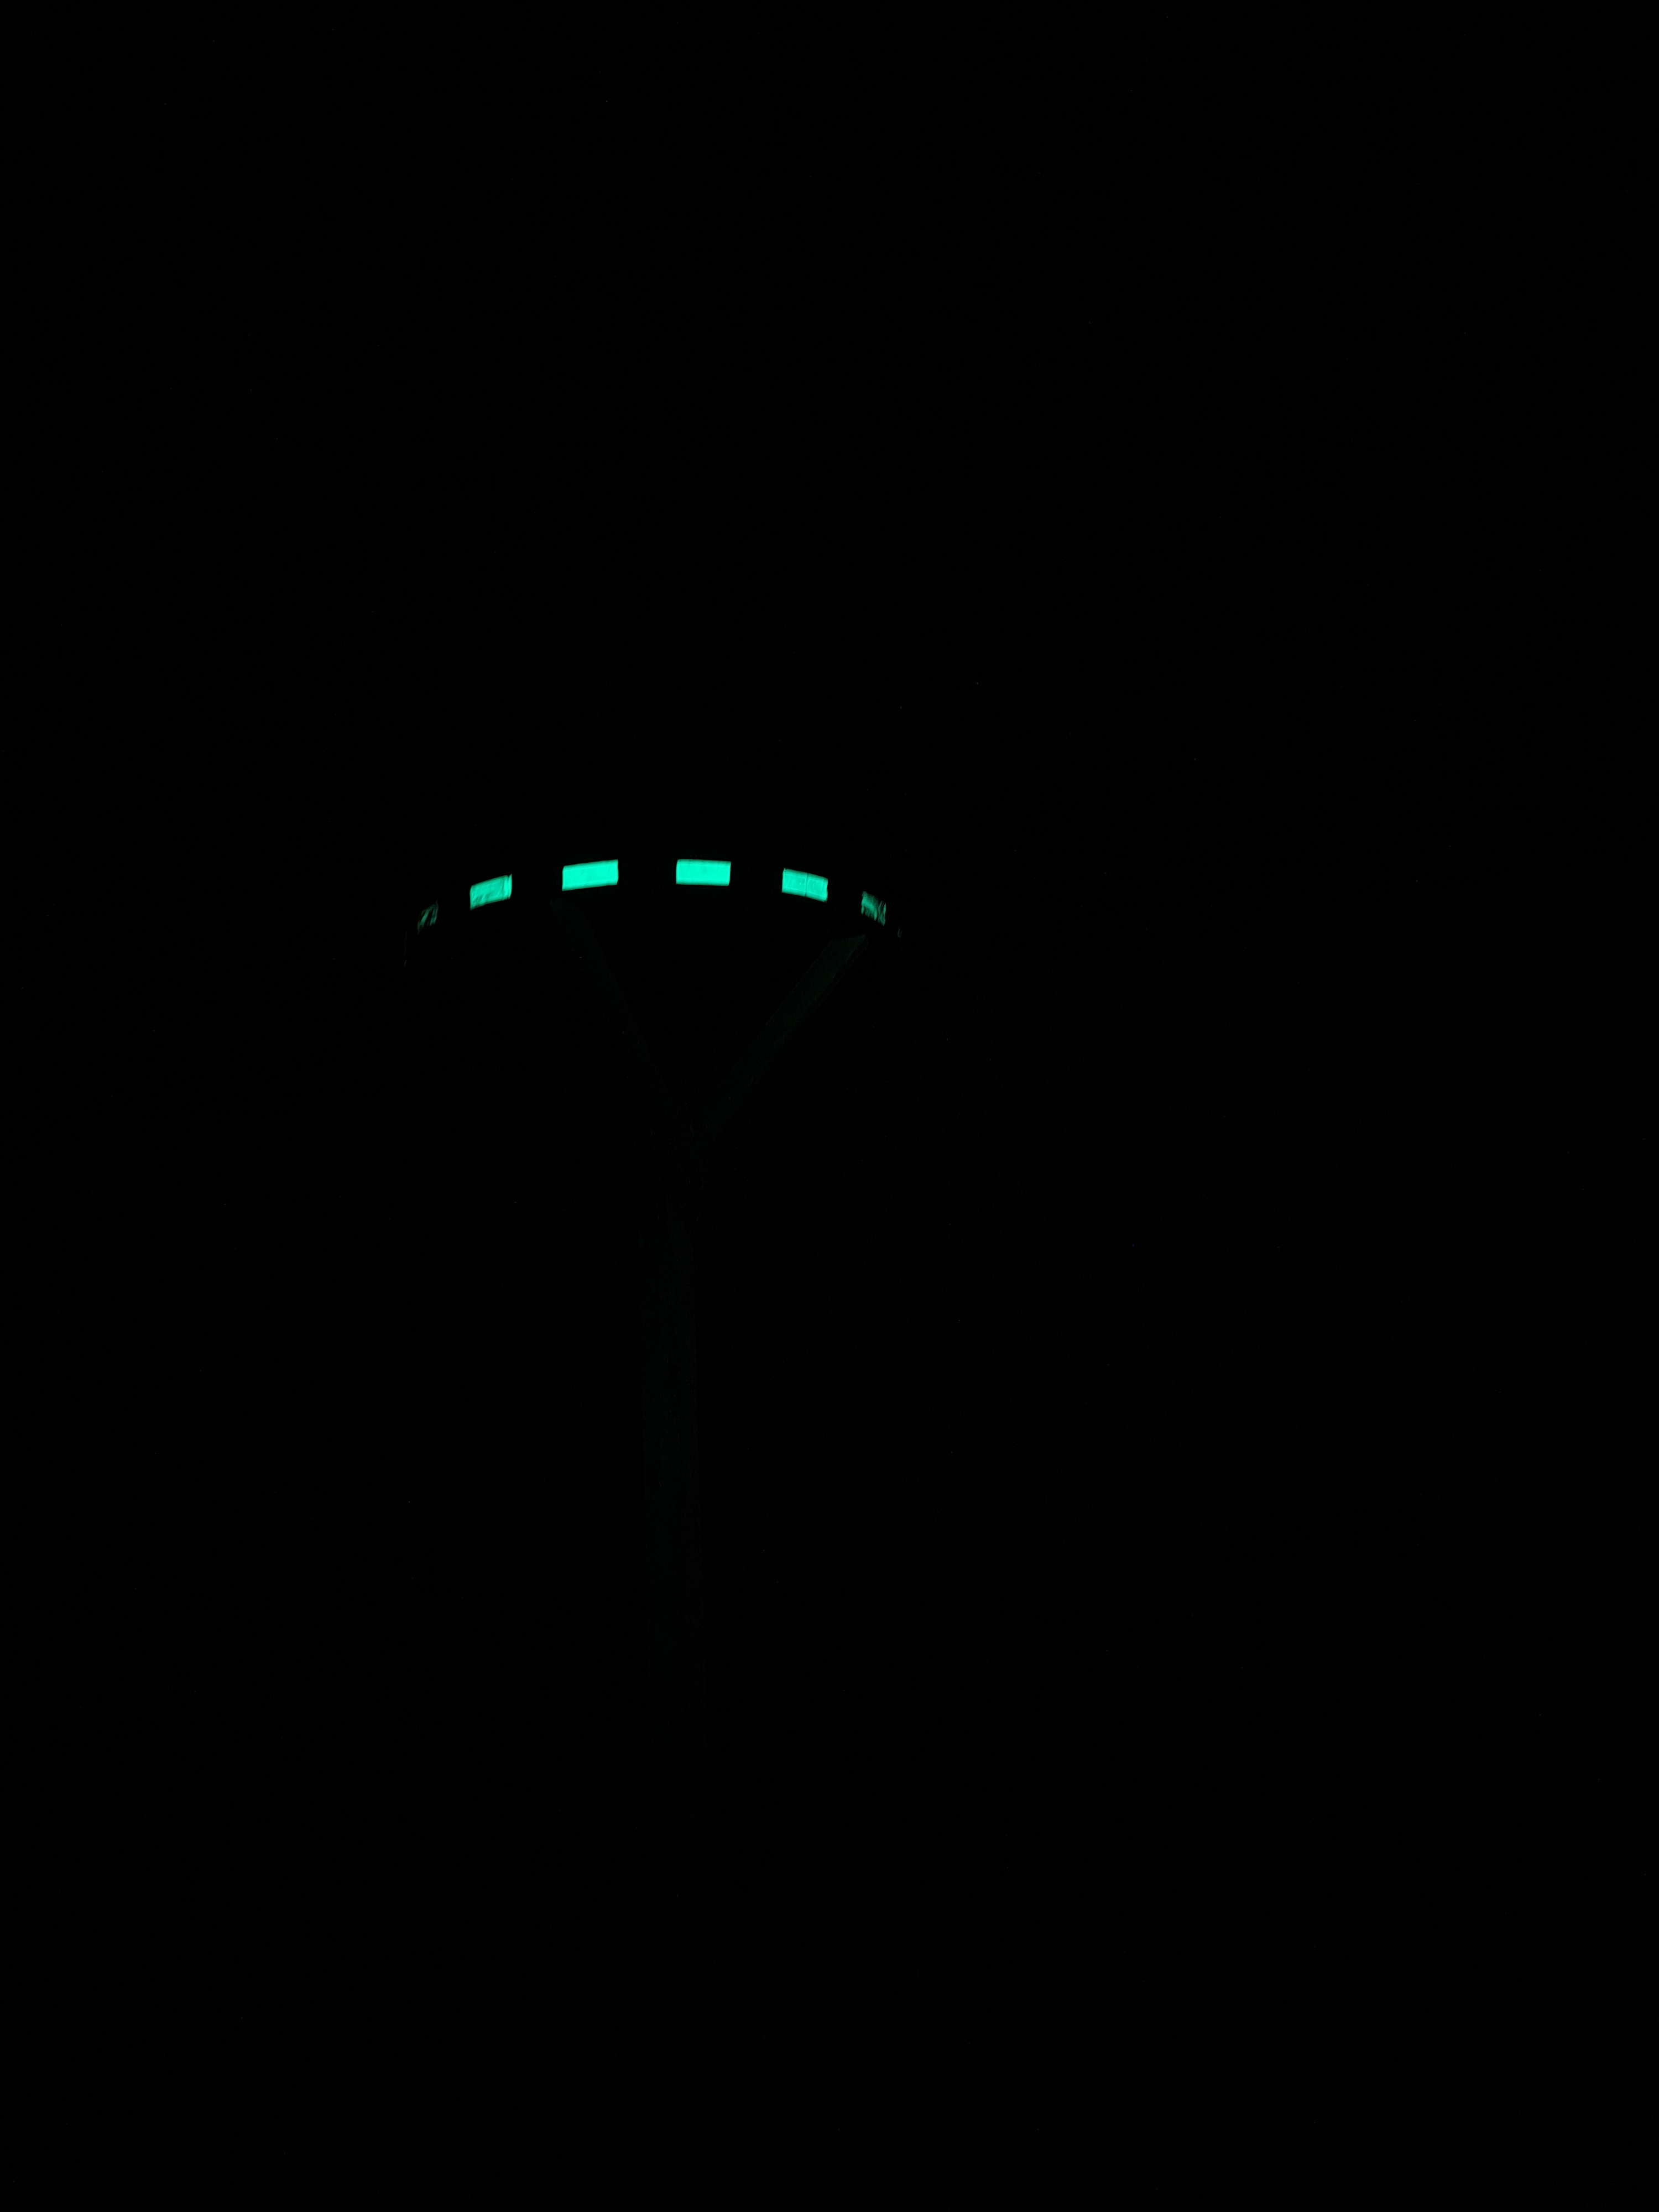hoop: (403, 850, 892, 935)
